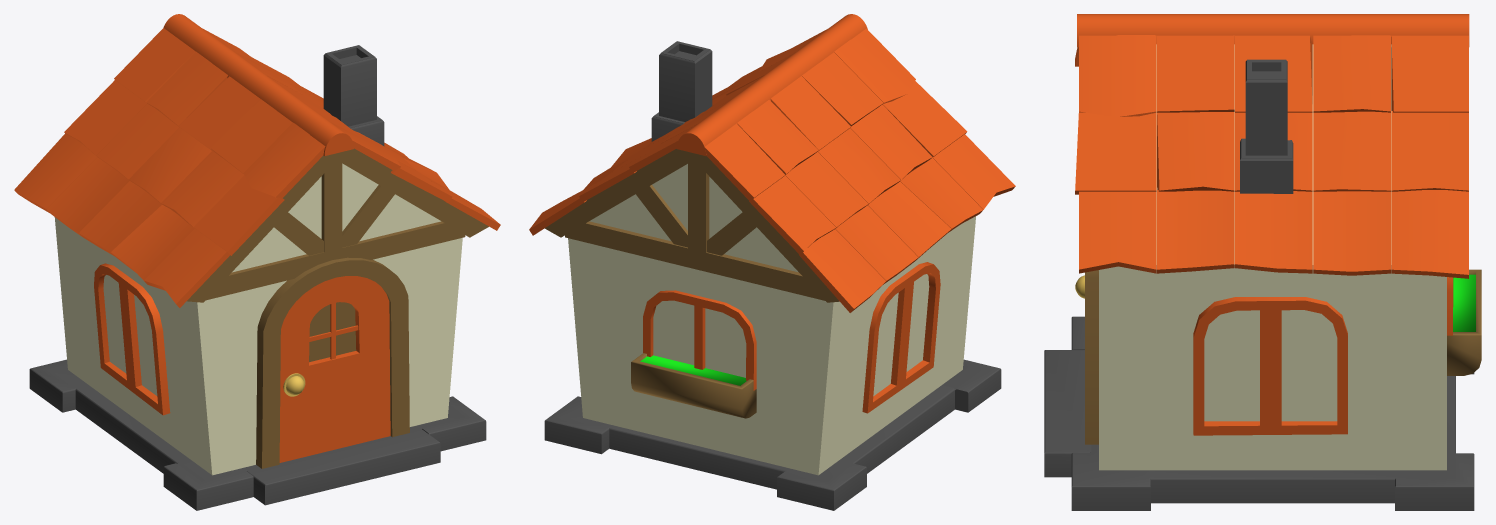
File: CASA ROJA.glb
The picture shows the model from 3 angles, left to right: view 1: azimuth 30°, elevation 25°; view 2: azimuth 150°, elevation 25°; view 3: azimuth 270°, elevation 25°; orthographic projection. The views are drawn at different scales.
Parts seen in each view (by area): view 1: Plane.003; view 2: Plane.003, Plane.001; view 3: Plane.003.
Boxes of the visible parts, x1,y1,x2,y2 form: Plane.003: (14, 14, 500, 510); Plane.003: (529, 14, 1015, 510); Plane.001: (643, 290, 756, 390); Plane.003: (1044, 14, 1481, 510).
Size of the model in its own units: 5.04 by 4.95 by 4.78.
